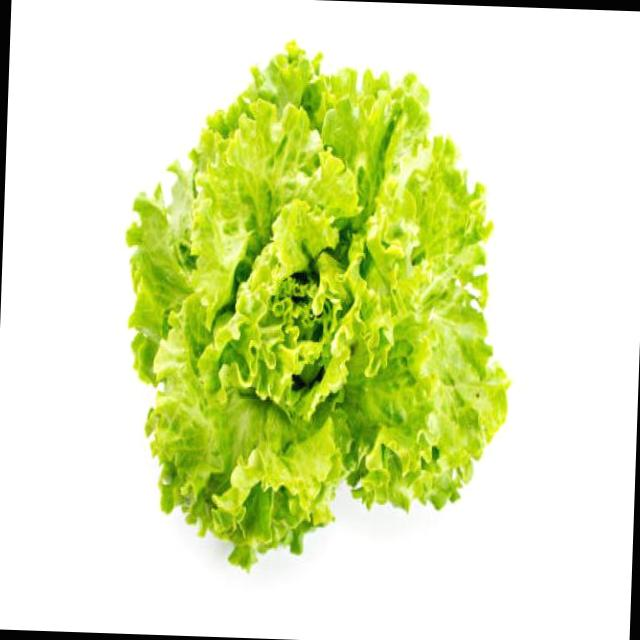Lettuce-Ready-to-Harvest: (113, 32, 524, 584)
